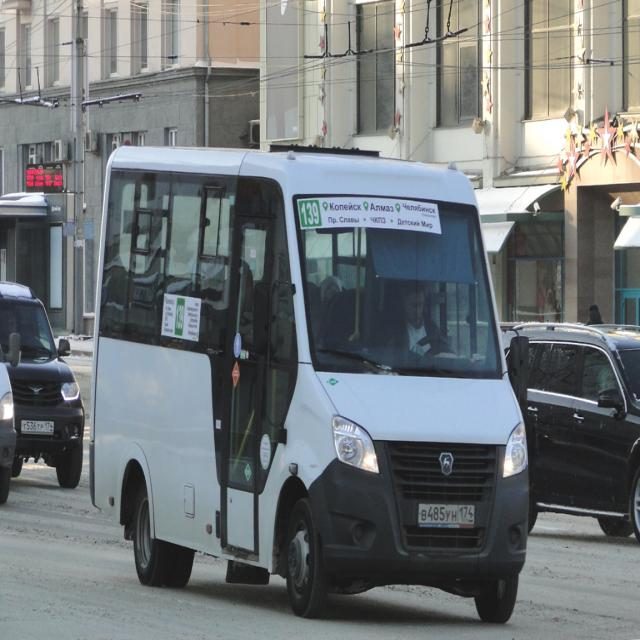number-of-bus: (301, 203, 321, 228), (176, 304, 185, 334)
